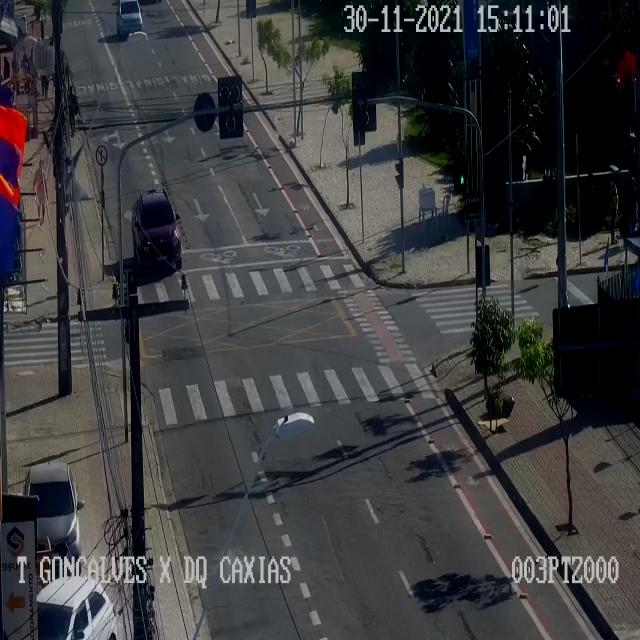Car: (24, 463, 80, 573), (36, 576, 116, 639), (131, 188, 181, 268), (117, 0, 145, 33)
